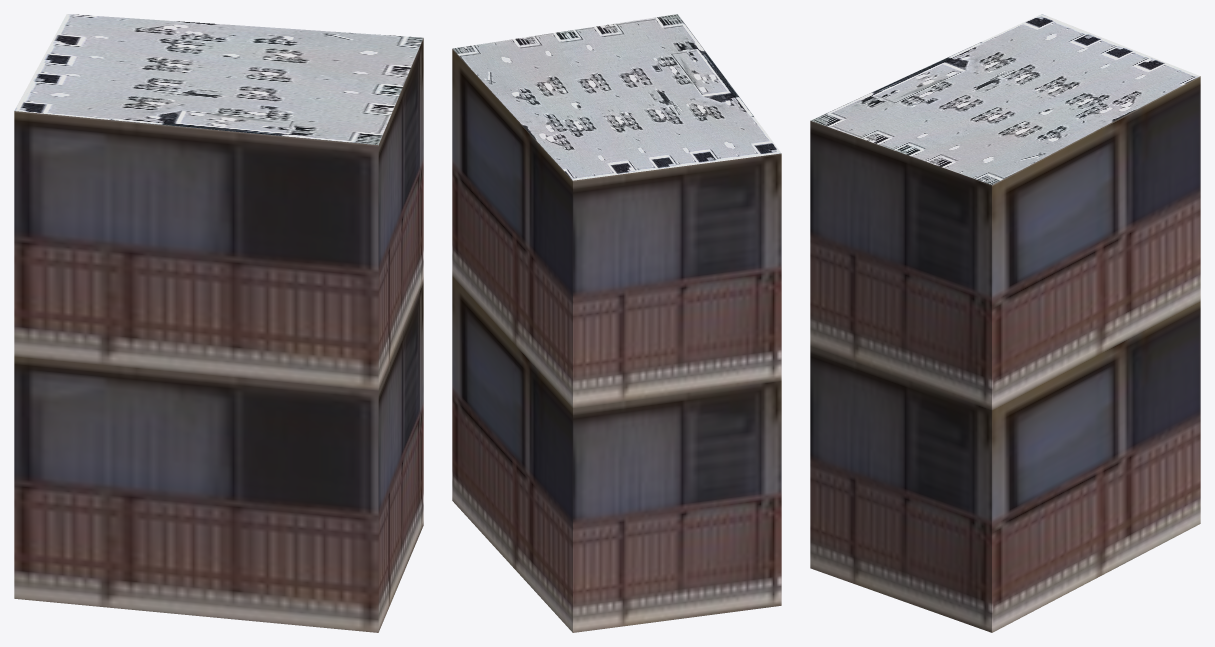
Rendered from ResTex__4833.fbx.
3 views of the same model, side by side, from view 1: azimuth 30°, elevation 25°; view 2: azimuth 150°, elevation 25°; view 3: azimuth 270°, elevation 25° (orthographic). The views are drawn at different scales.
Visible parts, largest first — view 1: CityEngineMaterial_6_m, CityEngineMaterial_4_m; view 2: CityEngineMaterial_6_m, CityEngineMaterial_4_m; view 3: CityEngineMaterial_6_m, CityEngineMaterial_4_m.
Boxes of the visible parts, x1,y1,x2,y2 form: CityEngineMaterial_6_m: [14, 38, 423, 632]; CityEngineMaterial_4_m: [14, 14, 423, 145]; CityEngineMaterial_6_m: [452, 49, 781, 632]; CityEngineMaterial_4_m: [452, 14, 781, 180]; CityEngineMaterial_6_m: [810, 76, 1200, 632]; CityEngineMaterial_4_m: [811, 14, 1199, 184].
Size of the model in its own units: 4.92 by 6 by 4.74.
2 materials, 2 textured.
